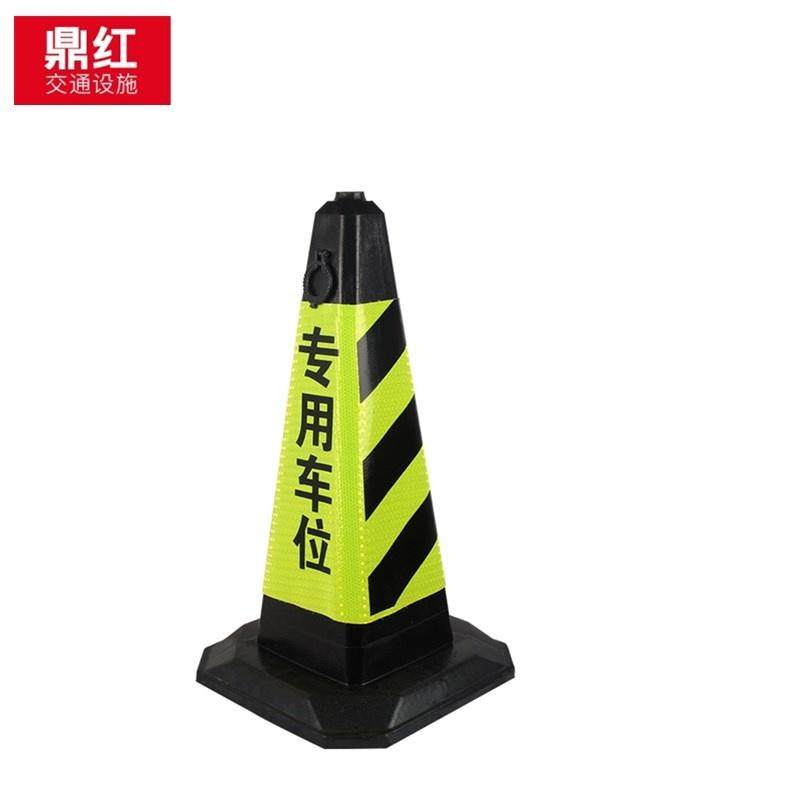cone_barrel: (191, 184, 517, 752)
